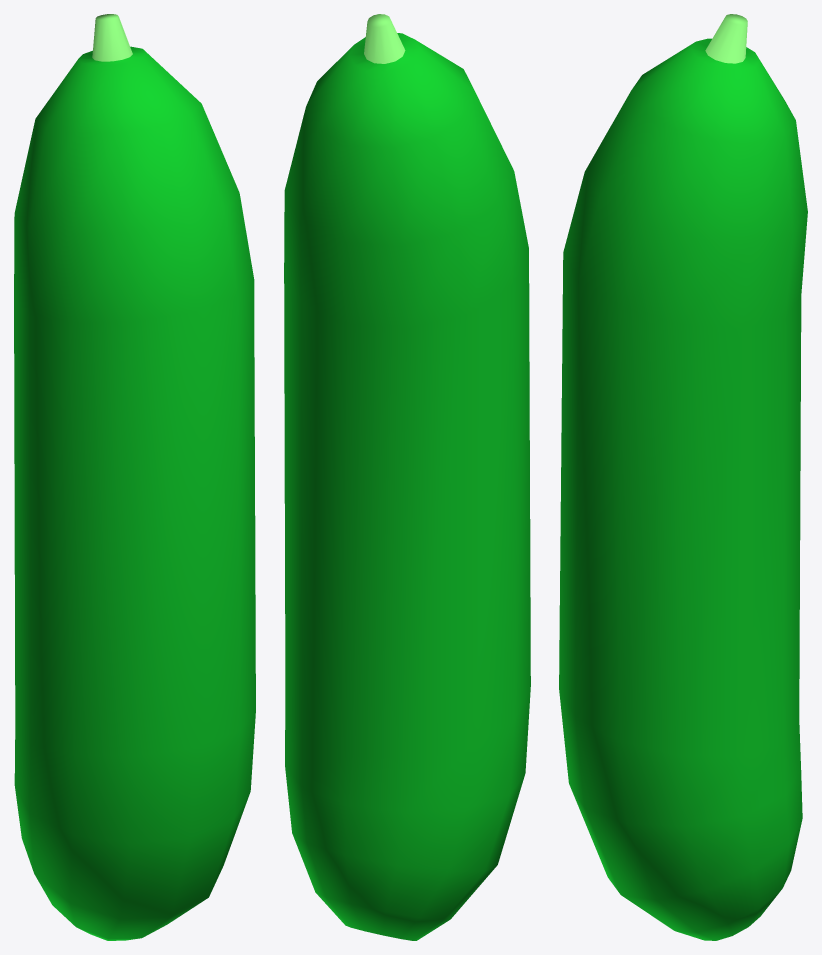
File: cucumber.fbx
The picture shows the model from 3 angles, left to right: view 1: azimuth 30°, elevation 25°; view 2: azimuth 150°, elevation 25°; view 3: azimuth 270°, elevation 25°; orthographic projection.
Visible parts, largest first — view 1: cucumber; view 2: cucumber; view 3: cucumber.
Boxes of the visible parts, x1,y1,x2,y2 form: cucumber: [14, 14, 255, 940]; cucumber: [284, 14, 530, 940]; cucumber: [559, 14, 807, 940].
Size of the model in its own units: 11.96 by 49.91 by 12.27.
